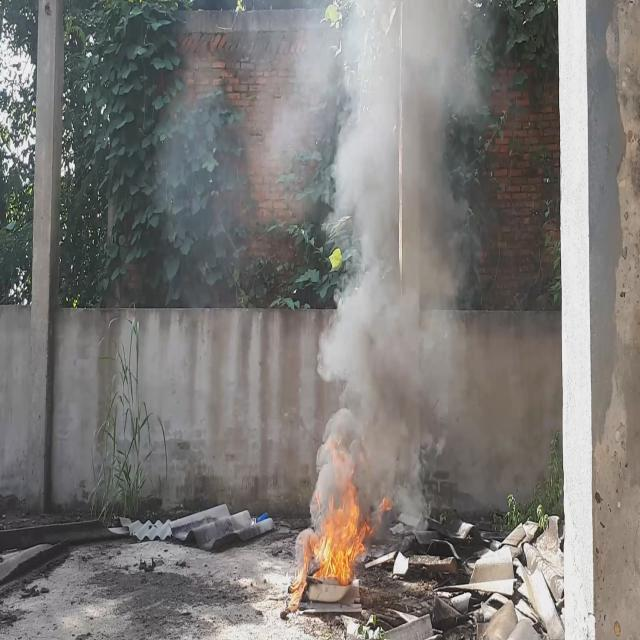Fire: (307, 480, 372, 582)
Smoke: (264, 0, 492, 521)
